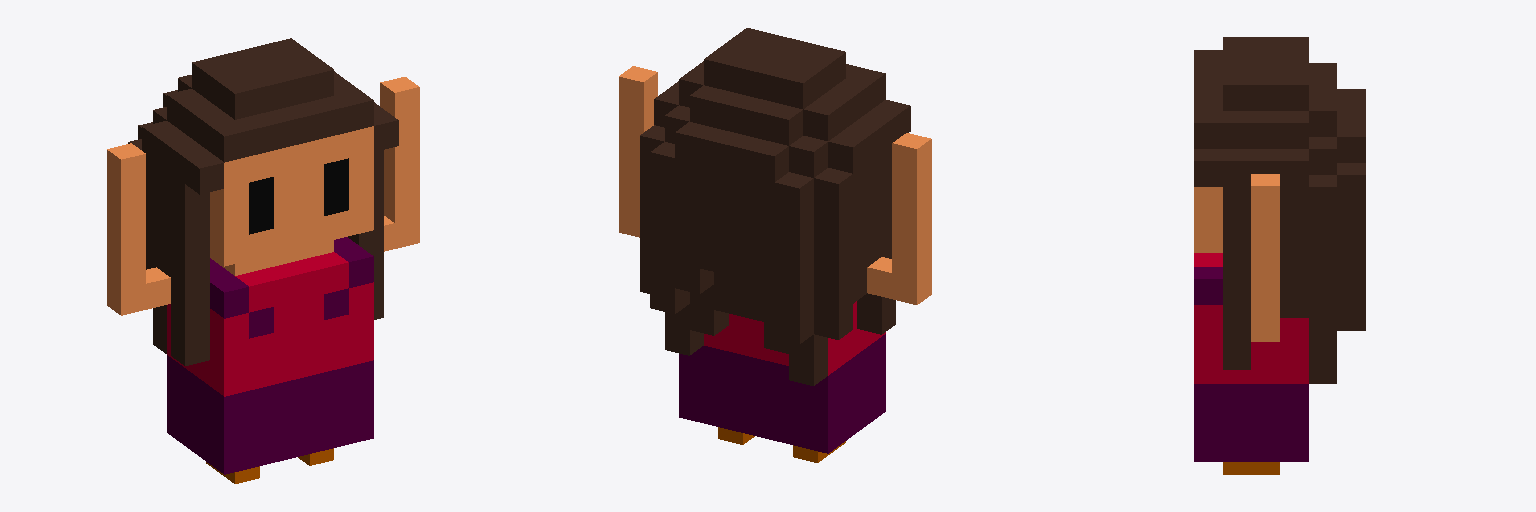
The picture shows the model from 3 angles: view 1: azimuth 30°, elevation 25°; view 2: azimuth 150°, elevation 25°; view 3: azimuth 270°, elevation 25°; orthographic projection.
Parts seen in each view (by area): view 1: object 1; view 2: object 1; view 3: object 1.
Part boxes in pixels (left/top/right/bottom): object 1: left=107, top=38, right=419, bottom=483; object 1: left=619, top=28, right=931, bottom=462; object 1: left=1194, top=37, right=1365, bottom=474.
Bounding box in the file's own units: 1.2 × 1.5 × 0.6.
1 materials, 1 textured.